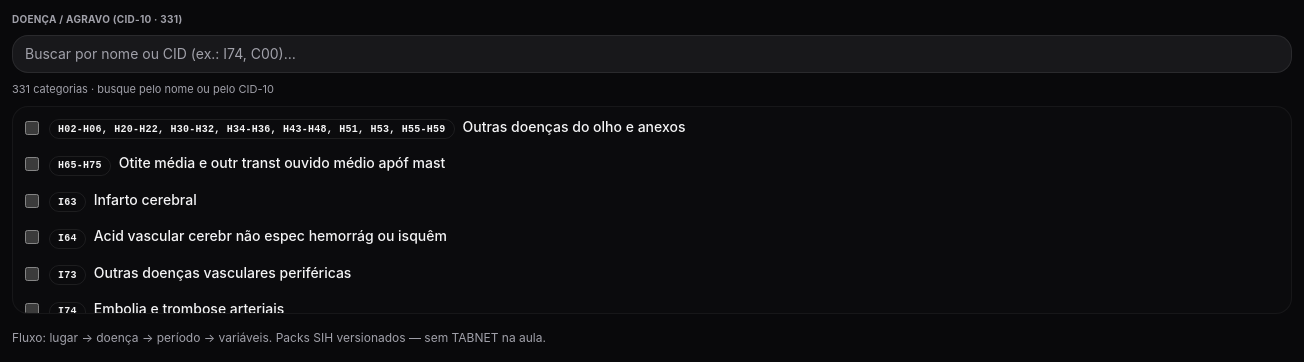
Scenario: MeasureDiseasePicker — busca por apelido (TAX-05) › "avc" mostra as categorias oficiais curadas em aliases.json, uma linha normal por categoria
In the search field named "Buscar doença": (652,54) left=12, top=35, right=1292, bottom=73, type "avc"
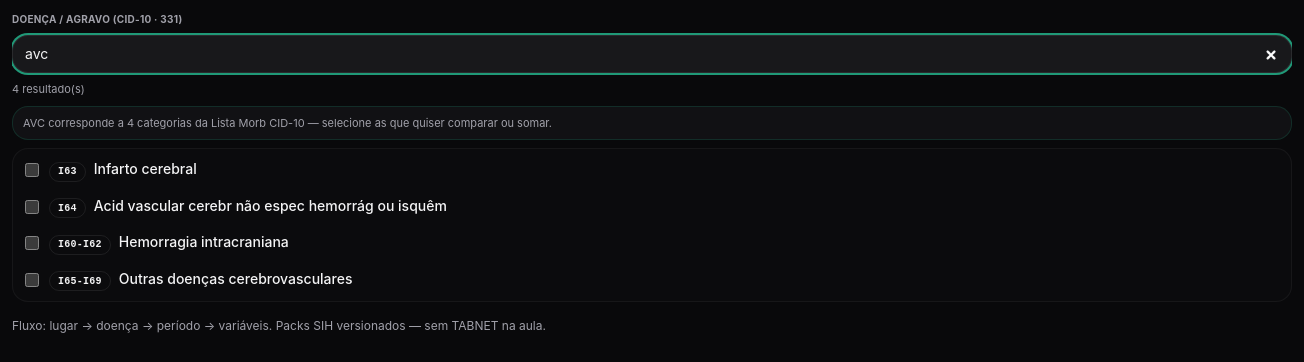
Now the text "Hemorragia intracraniana" is shown, box left=119, top=232, right=289, bottom=252
Now the text "Outras doenças cerebrovasculares" is shown, box left=119, top=268, right=352, bottom=288
Now the number of checkboxes is 4, box left=25, top=163, right=39, bottom=177; left=25, top=200, right=39, bottom=214; left=25, top=236, right=39, bottom=250; left=25, top=272, right=39, bottom=286
